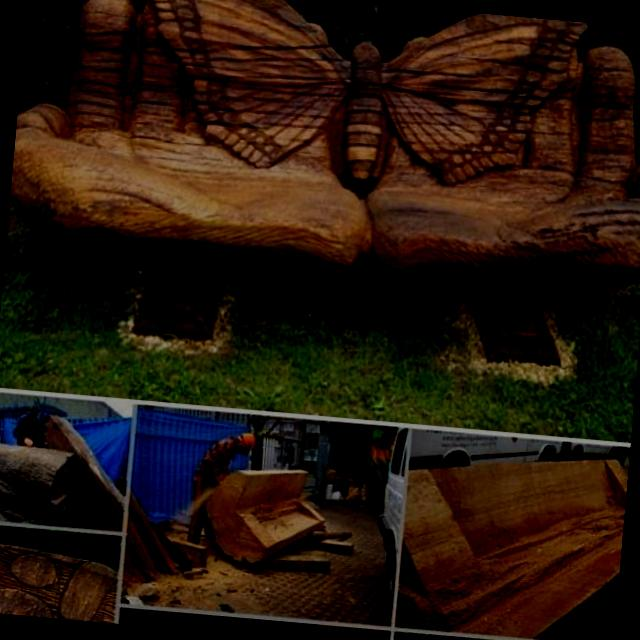Vehicle: (407, 428, 567, 482)
